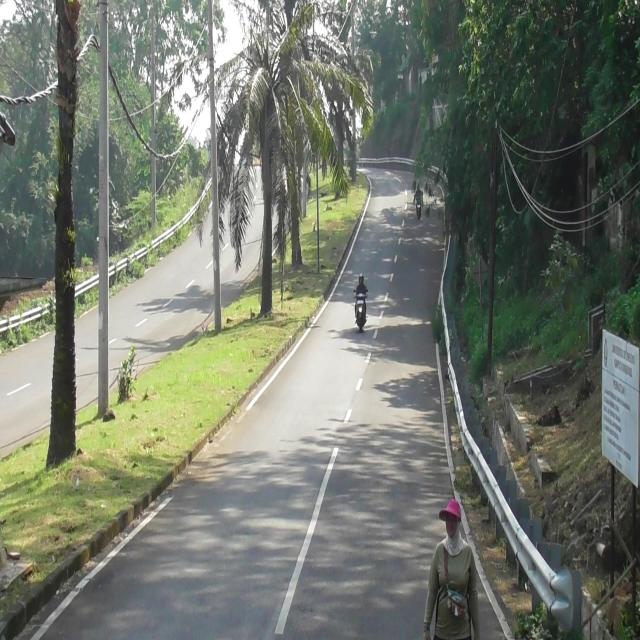motorcycle: (355, 290, 366, 332)
person: (355, 273, 368, 298)
rider_region: (353, 272, 368, 332)
